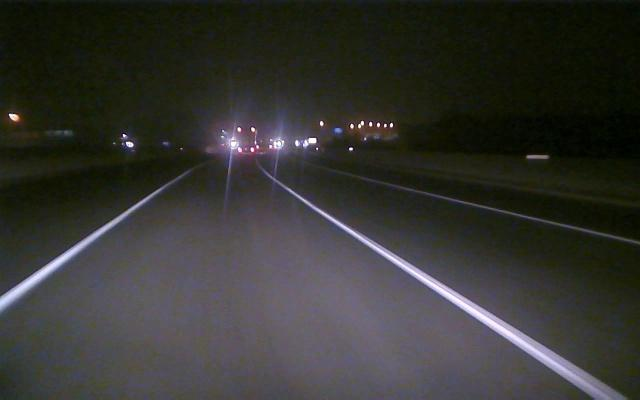lane: (279, 182, 629, 399), (2, 176, 182, 312), (380, 181, 640, 246)
